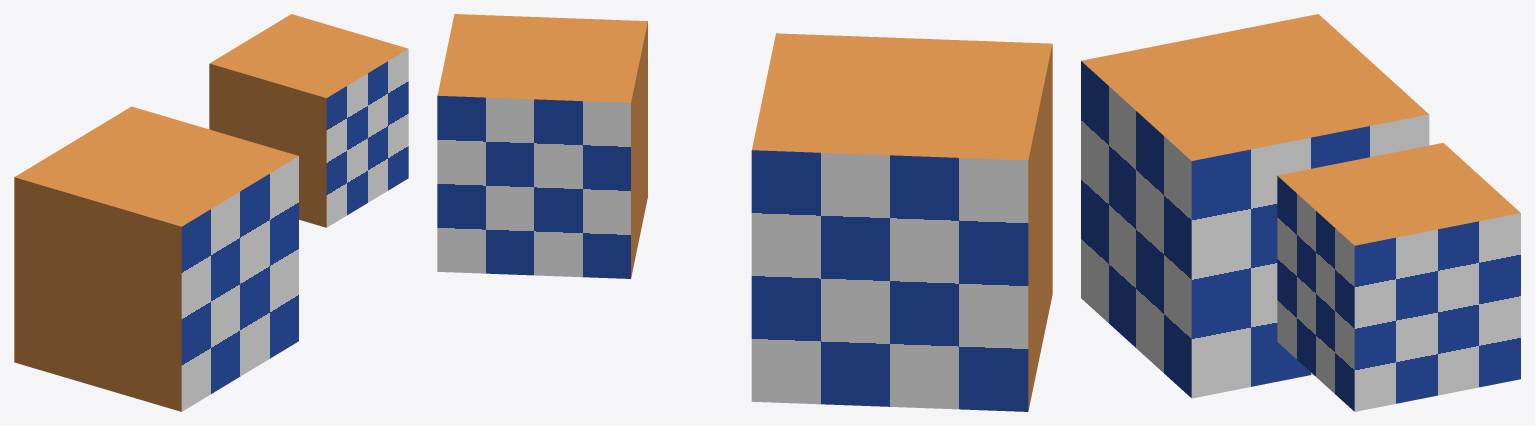
File: demo.gltf
3 views of the same model, side by side, from view 1: azimuth 30°, elevation 25°; view 2: azimuth 150°, elevation 25°; view 3: azimuth 270°, elevation 25° (orthographic). The views are drawn at different scales.
Visible parts, largest first — view 1: Checker cube, Shared mesh child; view 2: Checker cube, Shared mesh child; view 3: Checker cube, Shared mesh child.
Part boxes in pixels (x1,y1,x2,y2): Checker cube: (14,106,298,411); Shared mesh child: (209,14,408,227); Checker cube: (751,33,1052,411); Shared mesh child: (437,14,647,278); Checker cube: (1081,14,1429,398); Shared mesh child: (1277,143,1520,411).
Bounding box in the file's own units: 2.31 × 1.1 × 1.68.
2 materials, 1 textured.
